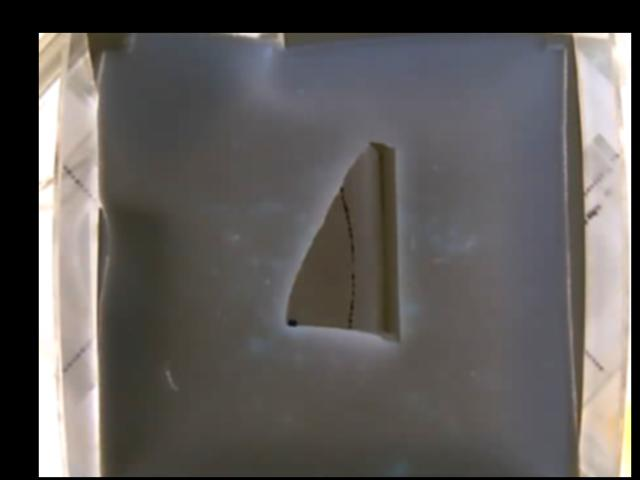China: (283, 141, 399, 342)
